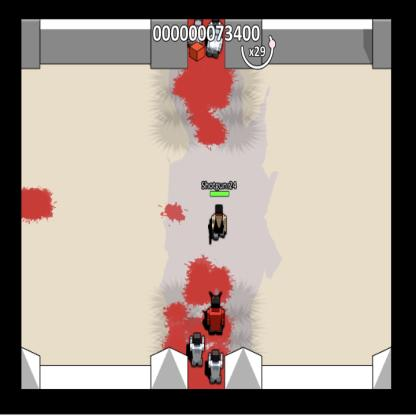agent: (210, 203, 228, 243)
boss: (205, 291, 226, 337)
jombie: (188, 330, 204, 367), (208, 348, 224, 384)
